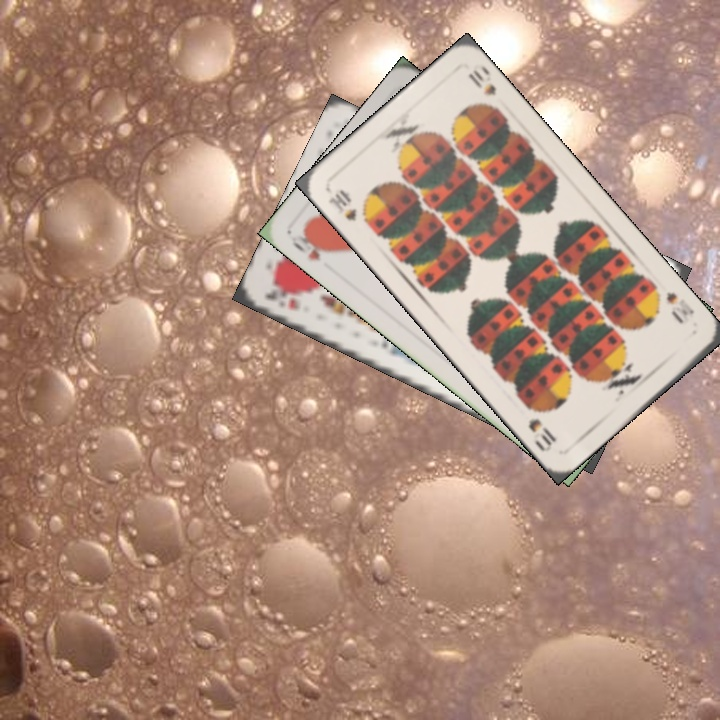HK: (261, 279, 303, 313)
HO: (287, 226, 336, 264)
S10: (324, 185, 360, 224), (662, 287, 697, 327)
